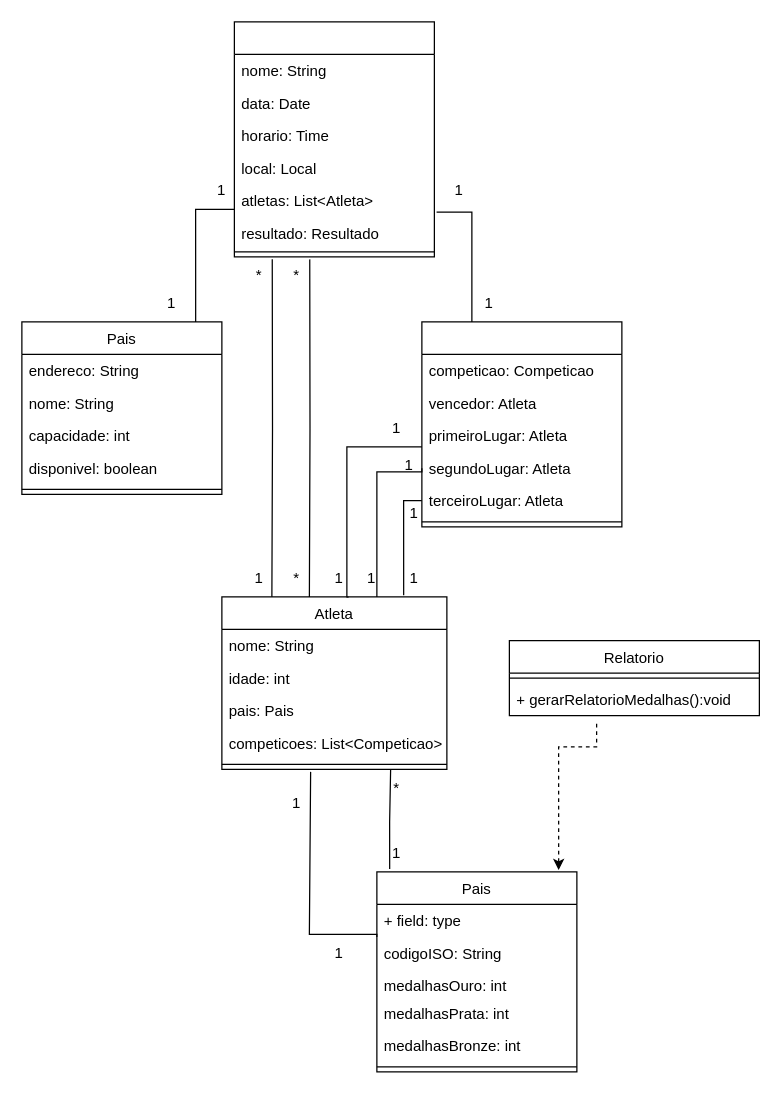
Some shapes in this 781 by 1094 pixel diagram are drawn without their labels. Each missing label, with the box of its shape:
Competicao: (233, 21, 434, 257)
Resultado: (421, 321, 622, 527)
